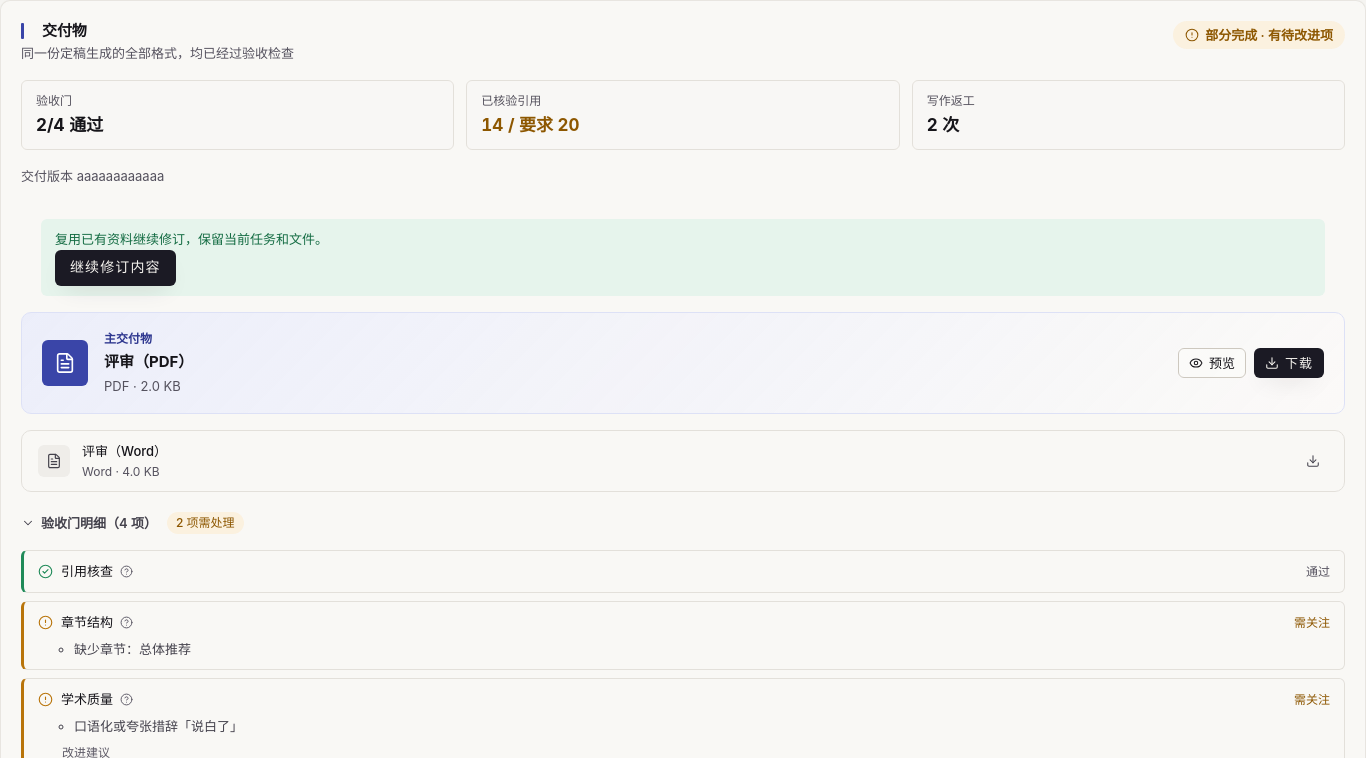
it: DeliverablesPanel › refreshes the offered source version after a content conflict
The width and height of the screenshot is (1366, 758).
What coordinates should you click on to do the following:
click the button "继续修订内容"
I would click on:
 (115, 268)
Its box is [55,250,176,286].
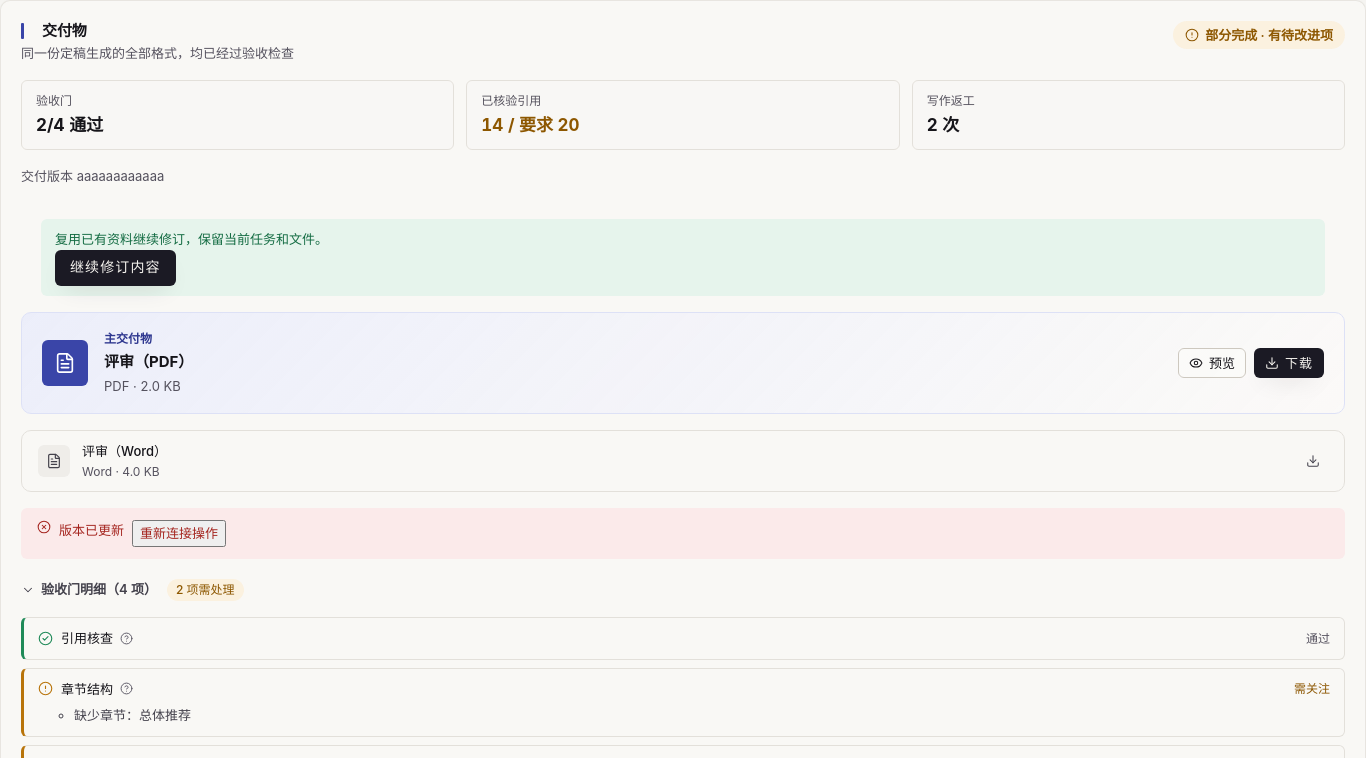
Expected: the message shows "版本已更新", [59,522,124,538]
